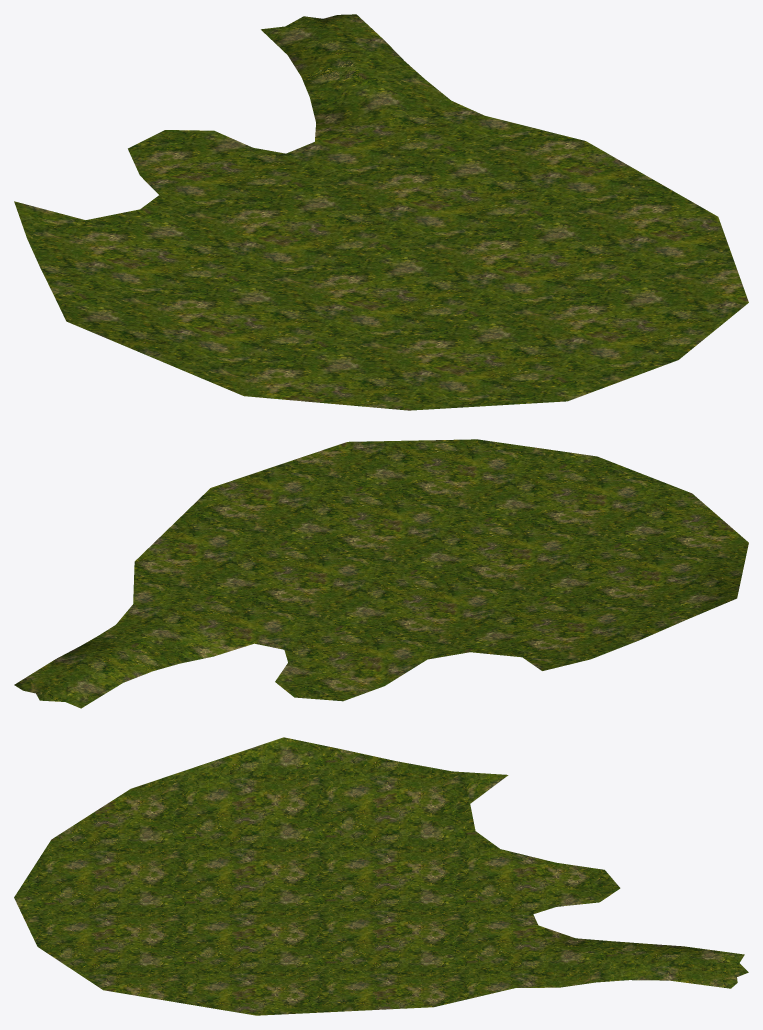
The model's file is OVERHILL_A_01_OBJECT19.fbx.
3 renders of one model, top to bottom at view 1: azimuth 30°, elevation 25°; view 2: azimuth 150°, elevation 25°; view 3: azimuth 270°, elevation 25°, orthographic. The views are drawn at different scales.
Parts seen in each view (by area): view 1: OVERHILL_A_01_OBJECT19; view 2: OVERHILL_A_01_OBJECT19; view 3: OVERHILL_A_01_OBJECT19.
Part boxes in pixels (bbox=[...]): OVERHILL_A_01_OBJECT19: bbox=[14, 14, 748, 410]; OVERHILL_A_01_OBJECT19: bbox=[14, 439, 748, 708]; OVERHILL_A_01_OBJECT19: bbox=[14, 737, 748, 1015].
Bounding box in the file's own units: 83584 × 5147 × 104624.
1 material, 1 textured.
